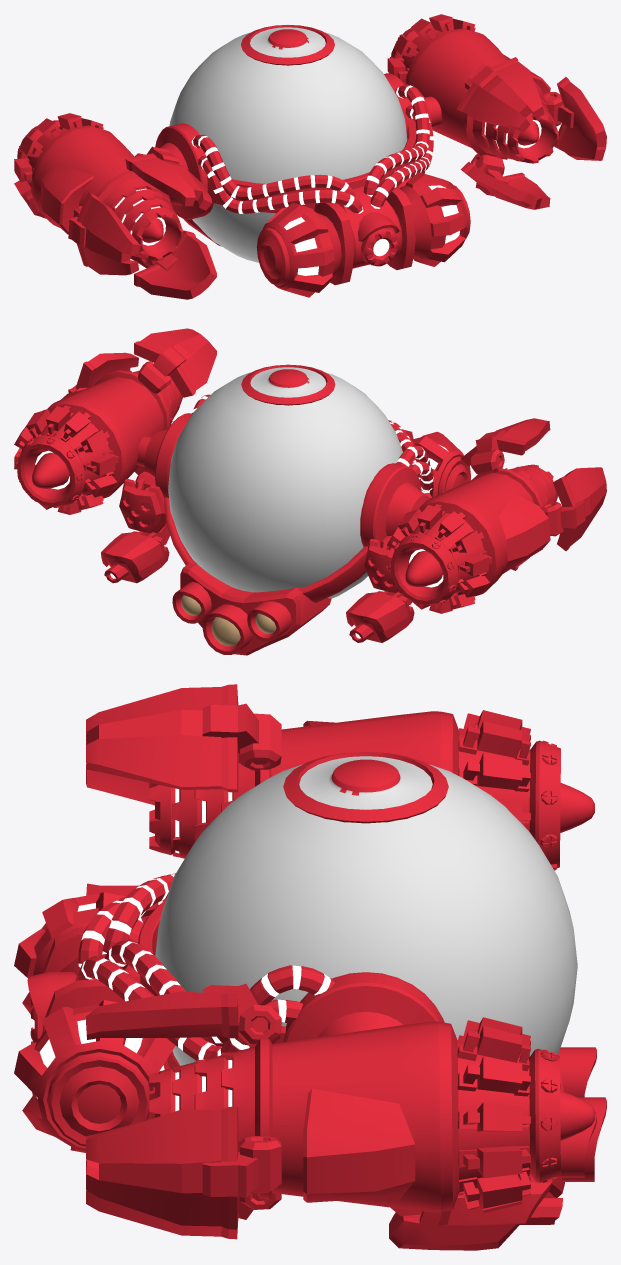
The model's file is Asteroids_bubble_ship_V1.fbx.
The picture shows the model from 3 angles, top to bottom: view 1: azimuth 30°, elevation 25°; view 2: azimuth 150°, elevation 25°; view 3: azimuth 270°, elevation 25°; orthographic projection. The views are drawn at different scales.
Visible parts, largest first — view 1: bubble, Cylinder, Cube.004, Cube.000, engine body.002, engine body.003, cable shape, Circle.002, cable shape.001, Circle.003, side connector, pipes.002 (+3 smaller); view 2: bubble, engine body.002, engine body.003, Cylinder.019, Cube.000, Cube.004, side connector, pipes.003, pipes.002, Cylinder, pod frame, Cube.008 (+10 smaller); view 3: bubble, engine body.003, Cube.004, Cylinder, Cube.000, engine body.002, pipes.003, Circle.003, side connector, cable shape, pipes.002, Circle.002 (+6 smaller).
Part boxes in pixels (x1,y1,x2,y2): bubble: (169, 27, 407, 262); Cylinder: (256, 172, 470, 297); Cube.004: (456, 57, 606, 209); Cube.000: (68, 146, 216, 299); engine body.002: (17, 121, 133, 234); engine body.003: (391, 28, 550, 147); cable shape: (191, 84, 429, 200); Circle.002: (96, 171, 183, 260); cable shape.001: (198, 105, 433, 213); Circle.003: (463, 81, 558, 163); side connector: (155, 73, 442, 219); pipes.002: (14, 113, 103, 218); bubble: (168, 367, 402, 598); engine body.002: (390, 473, 550, 604); engine body.003: (17, 377, 164, 506); Cylinder.019: (172, 562, 331, 655); Cube.000: (460, 418, 606, 570); Cube.004: (68, 328, 216, 474); side connector: (136, 413, 429, 546); pipes.003: (14, 405, 118, 514); pipes.002: (387, 504, 491, 613); Cylinder: (404, 430, 470, 498); pod frame: (164, 452, 413, 602); Cube.008: (119, 478, 166, 533); bubble: (155, 756, 577, 1065); engine body.003: (272, 1021, 594, 1212); Cube.004: (86, 983, 281, 1239); Cylinder: (14, 892, 180, 1152); Cube.000: (86, 684, 281, 896); engine body.002: (271, 711, 594, 868); pipes.003: (457, 1017, 530, 1213); Circle.003: (149, 1038, 272, 1199); side connector: (283, 972, 444, 1042); cable shape: (102, 873, 335, 1043); pipes.002: (458, 710, 530, 823); Circle.002: (149, 753, 271, 858).
Bounding box in the file's own units: 2433 × 1094 × 1400.
